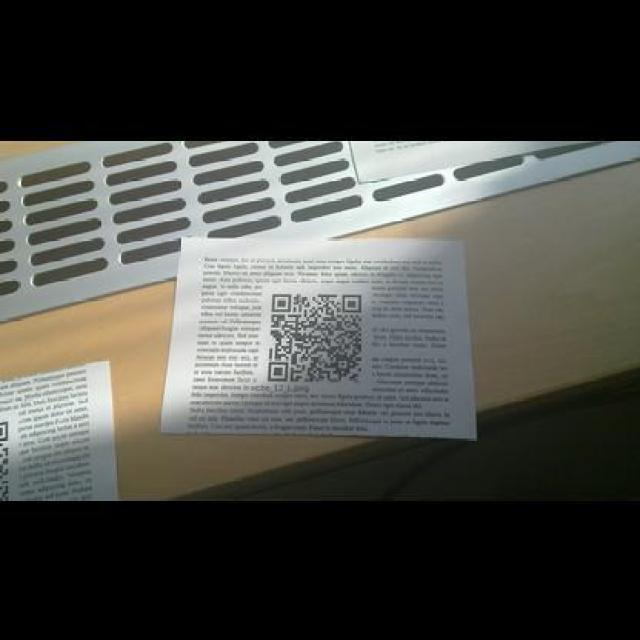QRCode: (262, 288, 370, 388)
